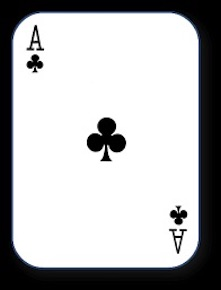AceOfClubs: (9, 8, 205, 275)
